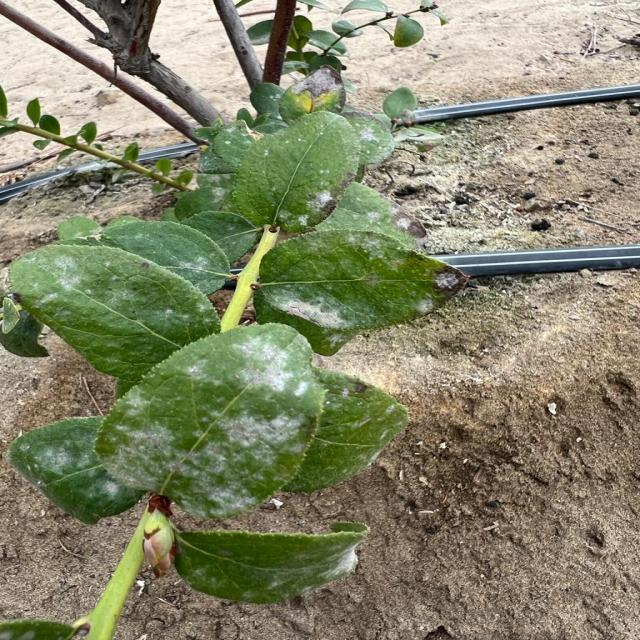Hojas con oidiosis: (107, 328, 319, 504), (255, 238, 467, 324), (229, 121, 346, 227), (17, 246, 127, 328)
